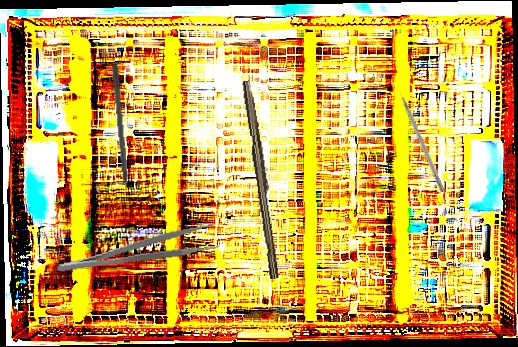Dressing Forceps: (53, 222, 220, 276)
Hook Surgical: (393, 79, 446, 193)
Pusher: (110, 63, 131, 211)
Scalpel Handle: (238, 79, 286, 280)
